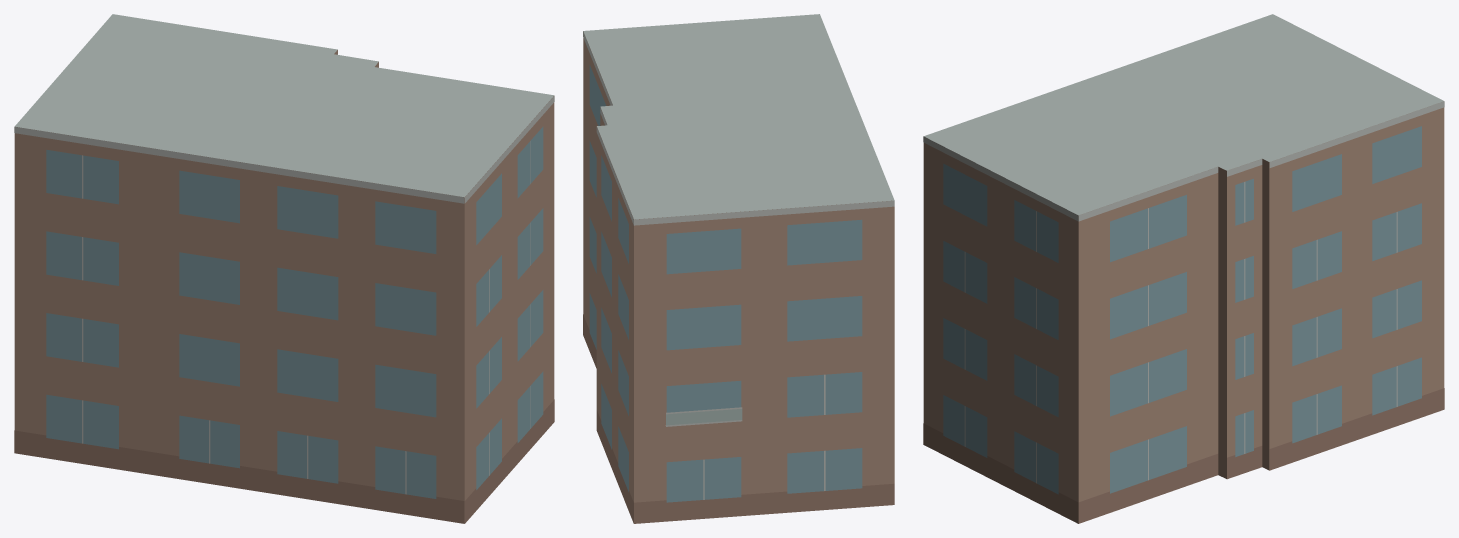
Rendered from survey-upis-32943138.glb.
3 views of the same model, side by side, from view 1: azimuth 30°, elevation 25°; view 2: azimuth 150°, elevation 25°; view 3: azimuth 270°, elevation 25° (orthographic). The views are drawn at different scales.
Parts seen in each view (by area): view 1: survey-upis-32943138.tmp; view 2: survey-upis-32943138.tmp; view 3: survey-upis-32943138.tmp.
Boxes of the visible parts, x1,y1,x2,y2 form: survey-upis-32943138.tmp: [14, 14, 554, 523]; survey-upis-32943138.tmp: [583, 14, 894, 523]; survey-upis-32943138.tmp: [923, 14, 1444, 523].
Bounding box in the file's own units: 17.09 × 12.2 × 18.68.
